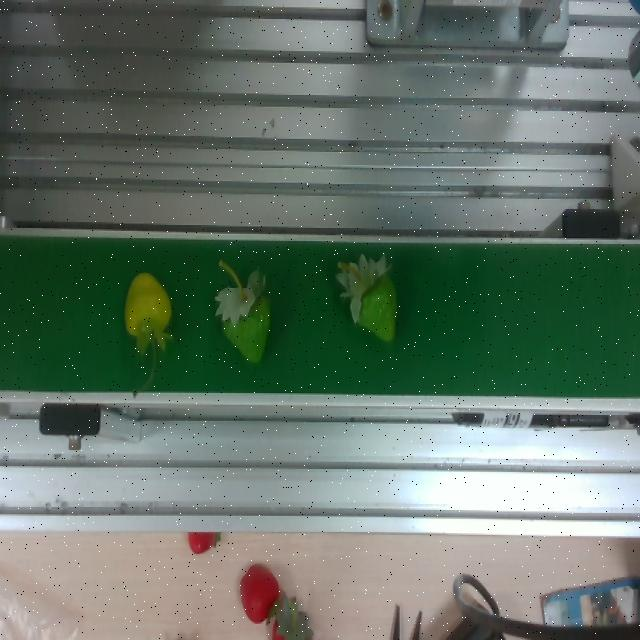Large Ripe Strawberry: (237, 558, 332, 640)
Small Unripe Strawberry: (207, 272, 280, 370), (338, 248, 406, 348), (118, 268, 181, 362)
conveyor: (0, 221, 640, 403)
